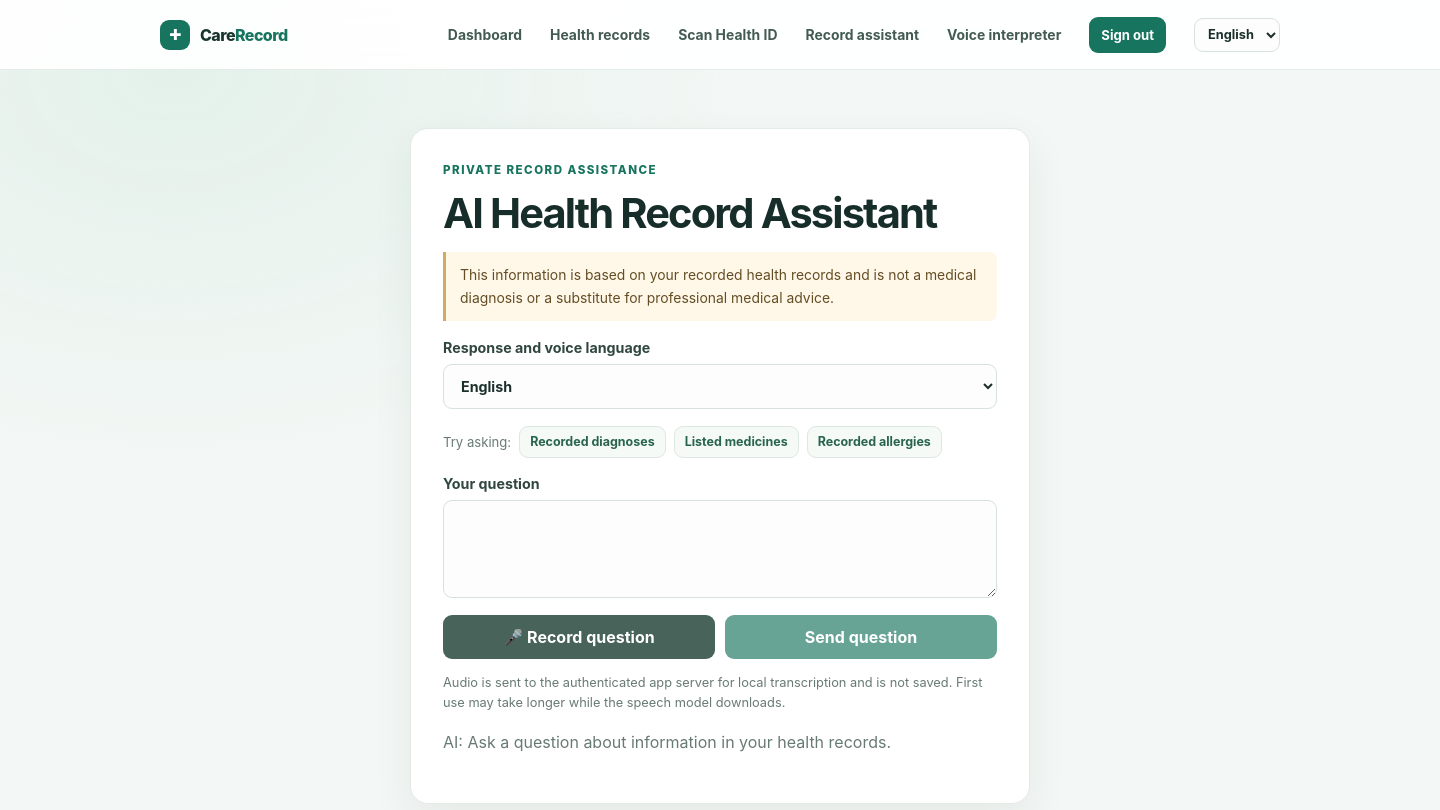
Test: patient web flow › explains when microphone permission is denied
This screenshot has width=1440, height=810.
Click the button "🎤 Record question": (579, 637) [443,615,715,659]
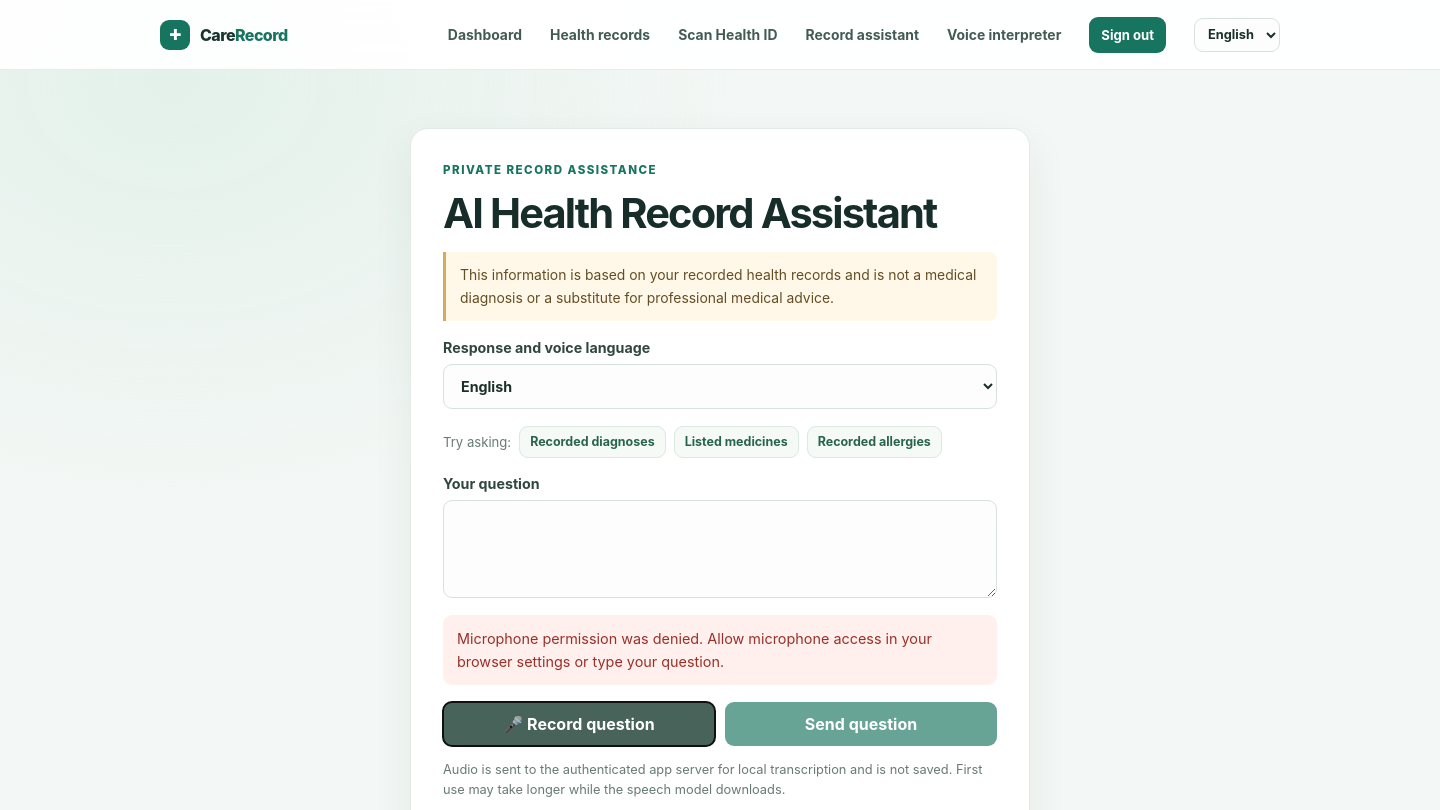
Check: the 1st message shows "Microphone permission was denied", box [457,630,932,670]
